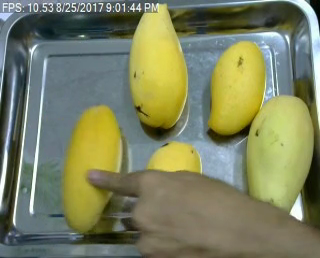Mango: (244, 93, 320, 224), (54, 104, 126, 234), (126, 0, 193, 132), (206, 42, 272, 133), (143, 139, 208, 179)
